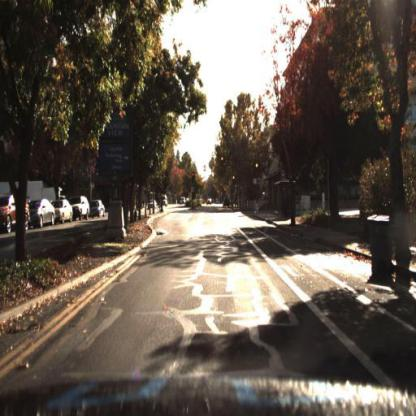car: (1, 190, 35, 235), (27, 198, 57, 231), (33, 197, 57, 228), (50, 198, 74, 226), (73, 194, 91, 222), (73, 192, 90, 219), (57, 196, 74, 221), (89, 200, 107, 220), (150, 198, 159, 211), (178, 193, 187, 205)
trafficLight: (218, 151, 225, 167)
trafficLight-Red: (254, 159, 261, 177), (231, 172, 238, 188)
trafficLight-RedLeft: (188, 169, 196, 186)
trafficLight-Yellow: (252, 160, 260, 172), (230, 173, 236, 181)
truck: (1, 179, 44, 211), (1, 174, 45, 198)
